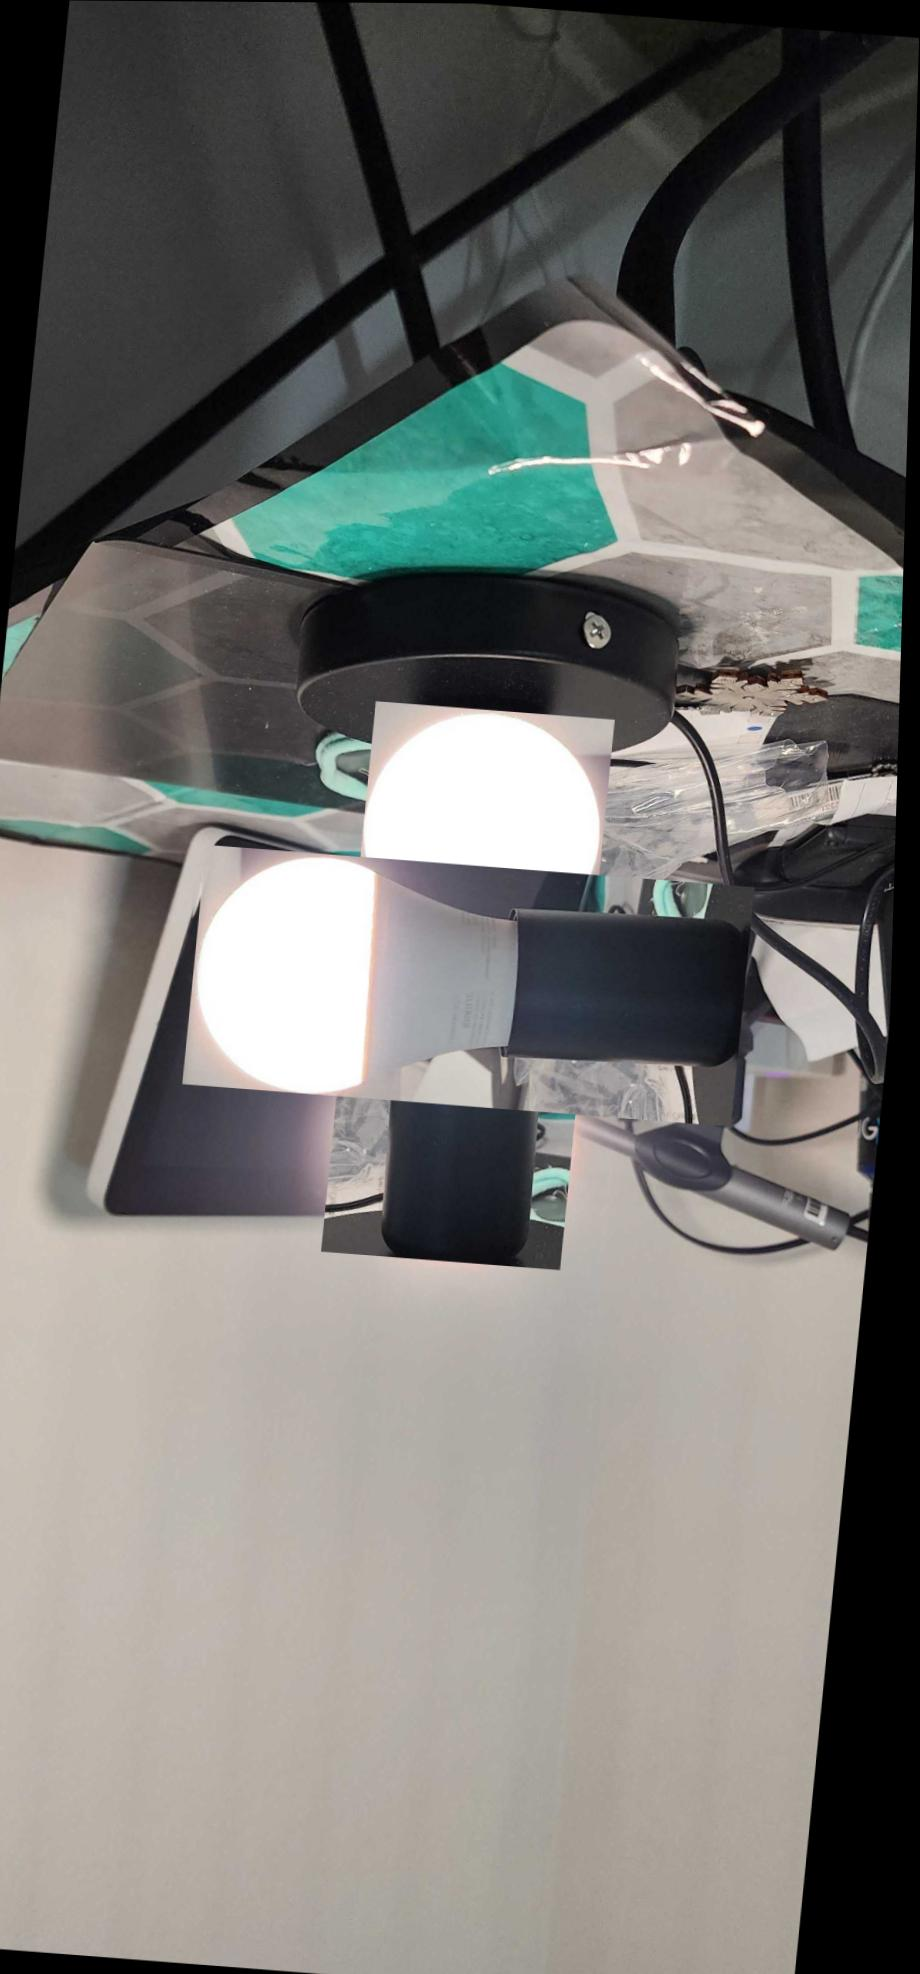TubeLight: (257, 770, 690, 1196)
